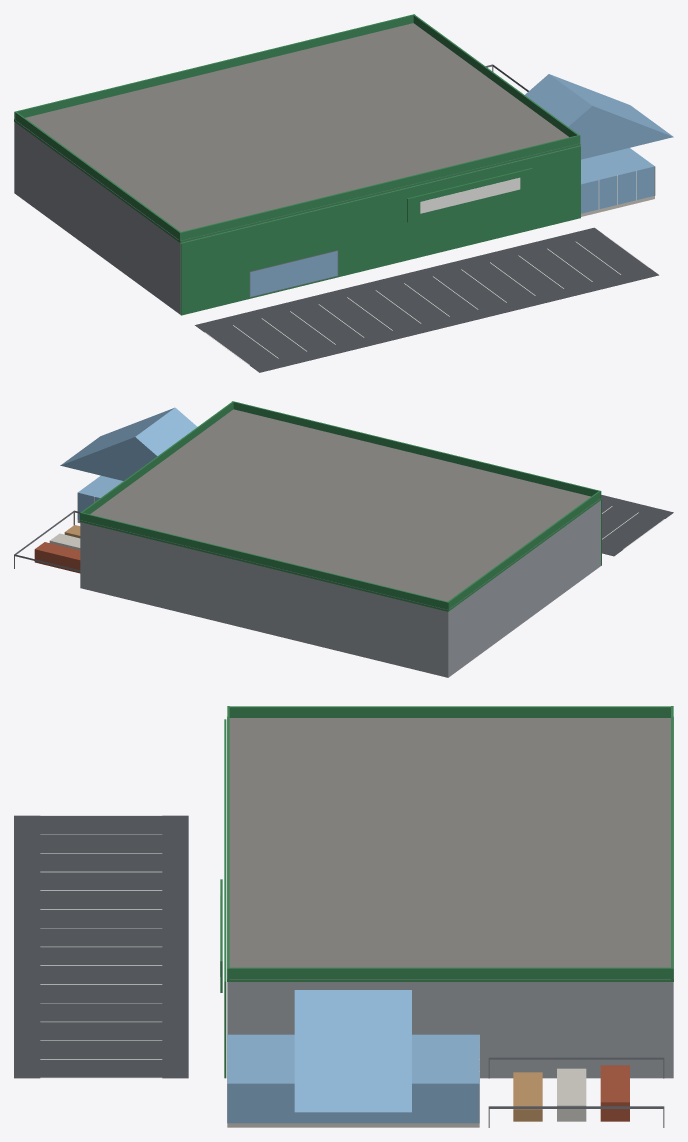
The model's file is magasin_bricolage.glb.
3 views of the same model, one above another, from view 1: azimuth 30°, elevation 25°; view 2: azimuth 150°, elevation 25°; view 3: azimuth 270°, elevation 25° (orthographic). The views are drawn at different scales.
Visible parts, largest first — view 1: magasin_bricolage; view 2: magasin_bricolage; view 3: magasin_bricolage.
Part boxes in pixels (left/top/right/bottom): magasin_bricolage: left=14, top=14, right=673, bottom=372; magasin_bricolage: left=14, top=401, right=673, bottom=677; magasin_bricolage: left=14, top=706, right=673, bottom=1127.
Size of the model in its own units: 83.11 by 12.85 by 68.05.
1 material, 1 textured.
